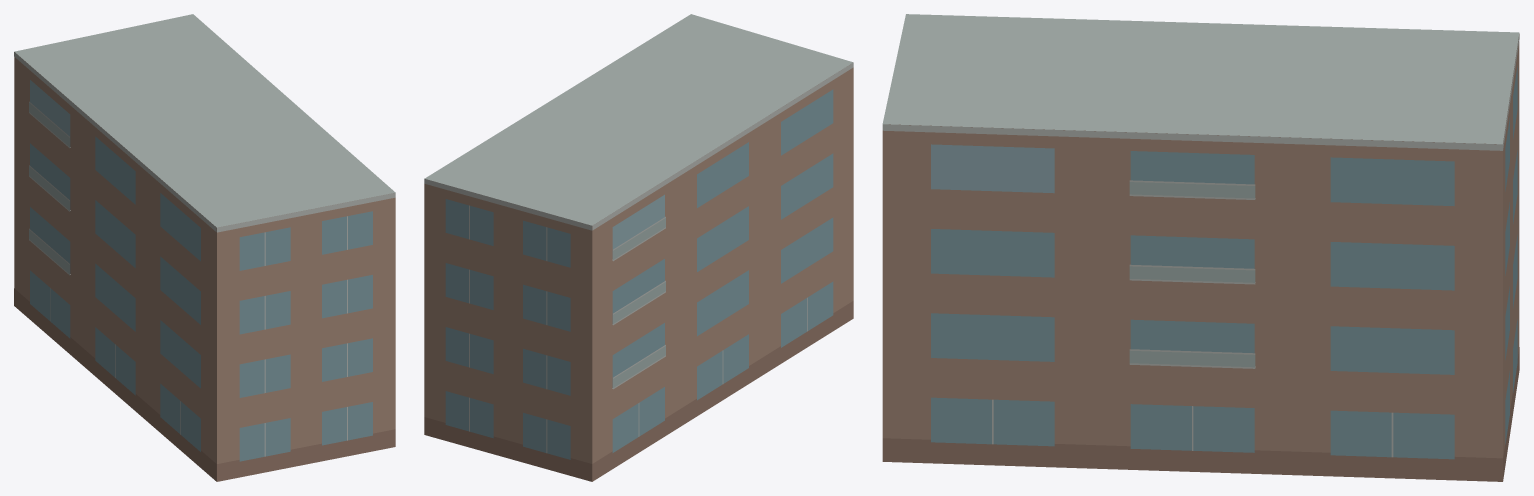
File: survey-upis-32871930.glb
The picture shows the model from 3 angles, left to right: view 1: azimuth 30°, elevation 25°; view 2: azimuth 150°, elevation 25°; view 3: azimuth 270°, elevation 25°; orthographic projection. The views are drawn at different scales.
Visible parts, largest first — view 1: survey-upis-32871930.tmp; view 2: survey-upis-32871930.tmp; view 3: survey-upis-32871930.tmp.
Part boxes in pixels (box(x1,y1,x2,y2)): survey-upis-32871930.tmp: box(14, 14, 395, 481); survey-upis-32871930.tmp: box(424, 14, 853, 481); survey-upis-32871930.tmp: box(882, 14, 1519, 481).
Size of the model in its own units: 10.36 by 12.5 by 21.39.
